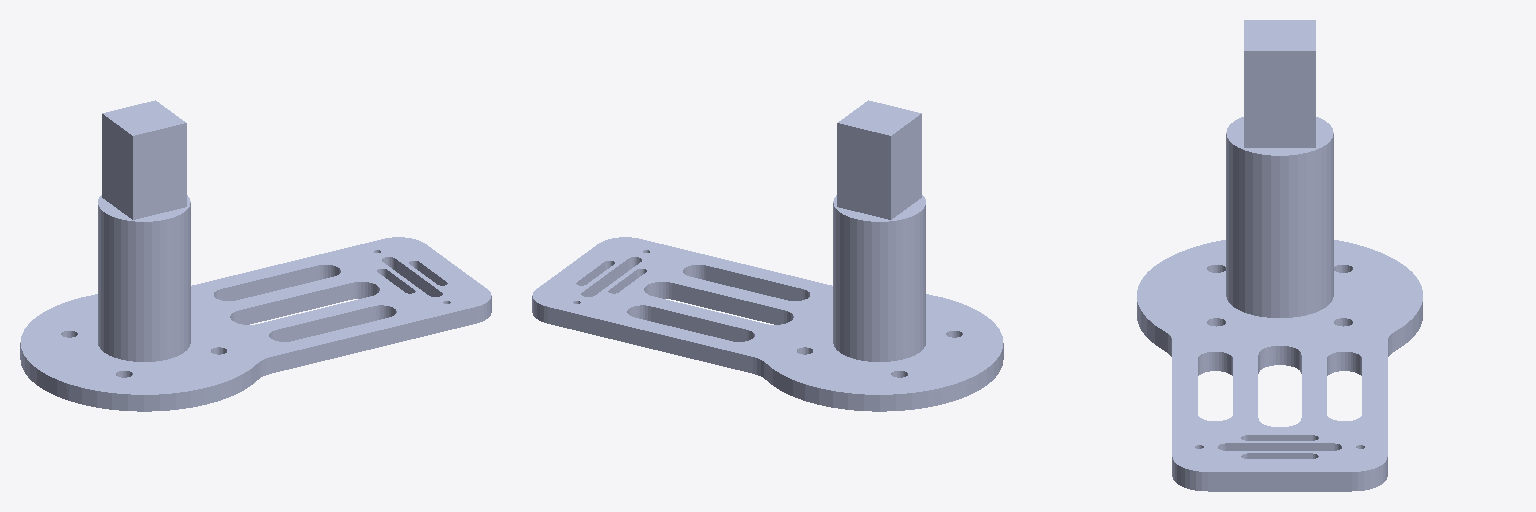
URDF robot description (sensors_fixture_description):
<!-- This URDF was automatically created by SolidWorks to URDF Exporter! Originally created by Stephen Brawner (brawner@gmail.com) 
     Commit Version: 1.6.0-4-g7f85cfe  Build Version: 1.6.7995.38578
     For more information, please see http://wiki.ros.org/sw_urdf_exporter -->
<robot name="sensors_fixture_description">
  <link
    name="sensors_fixture_base_link">
    <inertial>
      <origin
        xyz="0.015263 -7.6162E-18 0.022043"
        rpy="0 0 0" />
      <mass
        value="0.094815" />
      <inertia
        ixx="7.8443E-05"
        ixy="5.7706E-20"
        ixz="2.756E-05"
        iyy="0.00017657"
        iyz="-1.8129E-20"
        izz="0.00014058" />
    </inertial>
    <visual>
      <origin
        xyz="0 0 0"
        rpy="0 0 0" />
      <geometry>
        <mesh
          filename="package://sensors_fixture_description/meshes/sensors_fixture.STL" />
      </geometry>
      <material
        name="">
        <color
          rgba="0.79216 0.81961 0.93333 1" />
      </material>
    </visual>
    <collision>
      <origin
        xyz="0 0 0"
        rpy="0 0 0" />
      <geometry>
        <mesh
          filename="package://sensors_fixture_description/meshes/sensors_fixture.STL" />
      </geometry>
    </collision>
  </link>
</robot>

--- Render facts (derived) ---
3 views of the same robot in one strip: view 1: azimuth 30°, elevation 25°; view 2: azimuth 150°, elevation 25°; view 3: azimuth 270°, elevation 25° (orthographic).
Model sensors_fixture_description with 1 links and 0 joints (none), rooted at sensors_fixture_base_link, posed all joints at 0.
Visible links, largest first — view 1: sensors_fixture_base_link; view 2: sensors_fixture_base_link; view 3: sensors_fixture_base_link.
Boxes of the visible links, x1,y1,x2,y2 form: sensors_fixture_base_link: [20, 100, 491, 411]; sensors_fixture_base_link: [532, 100, 1003, 411]; sensors_fixture_base_link: [1137, 20, 1422, 491].
Size in the robot's own frame: 0.1565 by 0.08 by 0.086 metres.
Meshes: 1 distinct files referenced, 1 mesh visuals loaded (1 binary STL).
